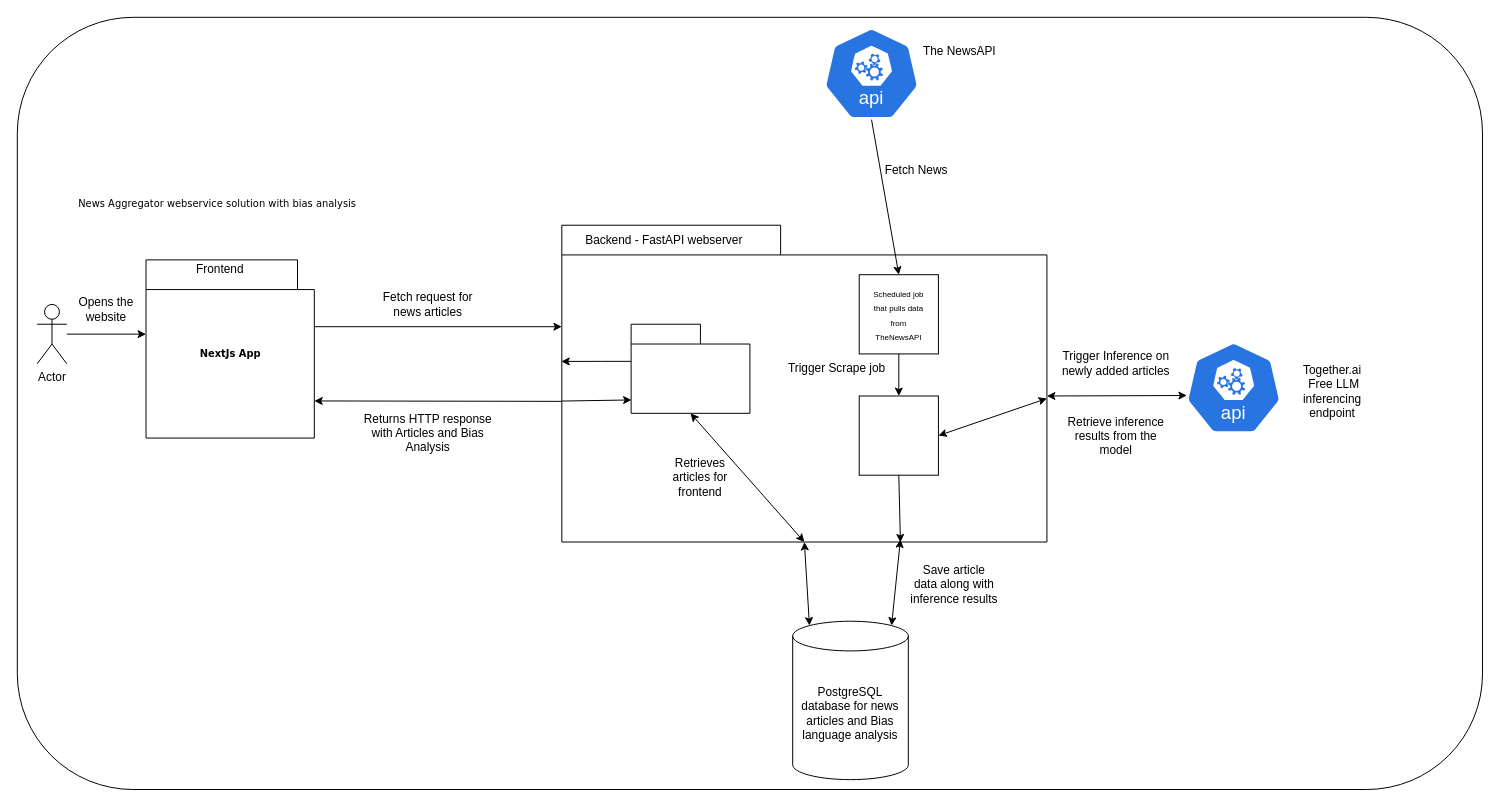
Image size: 1500x807. Some labels were removed from this diagram. The centre of each missing label's shape, as x and y in pixels:
"FastAPI Webserver" goes at (690,368).
"Web scraping module that returns full content from URLs obtained" goes at (898,435).
